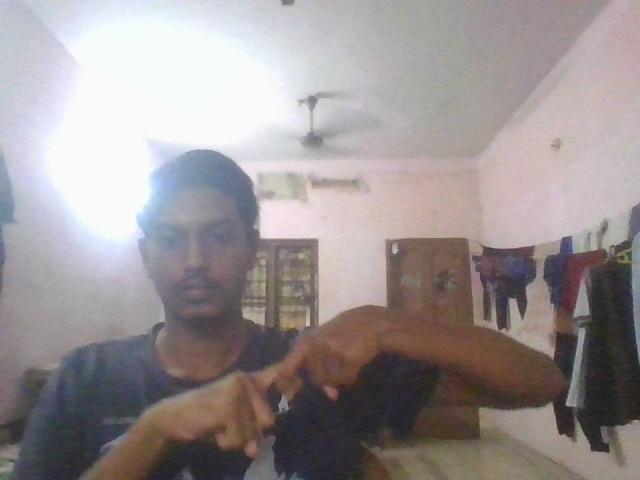friend: (148, 304, 406, 469)
